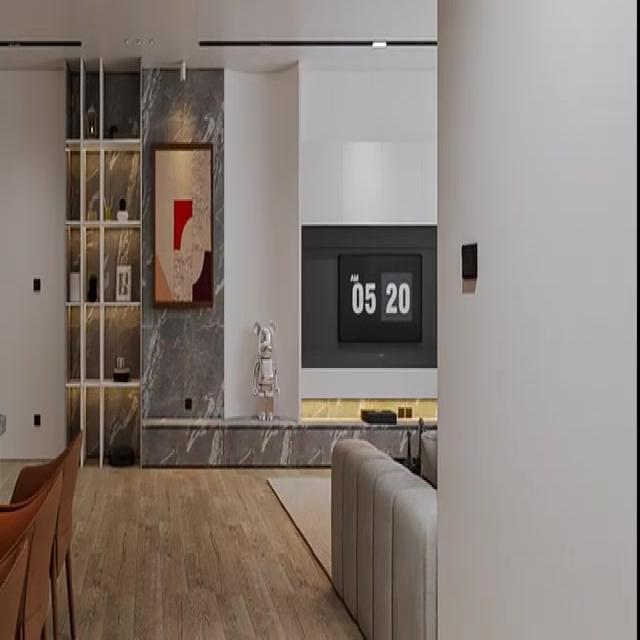obstacle: (64, 55, 142, 468), (330, 427, 437, 638)
